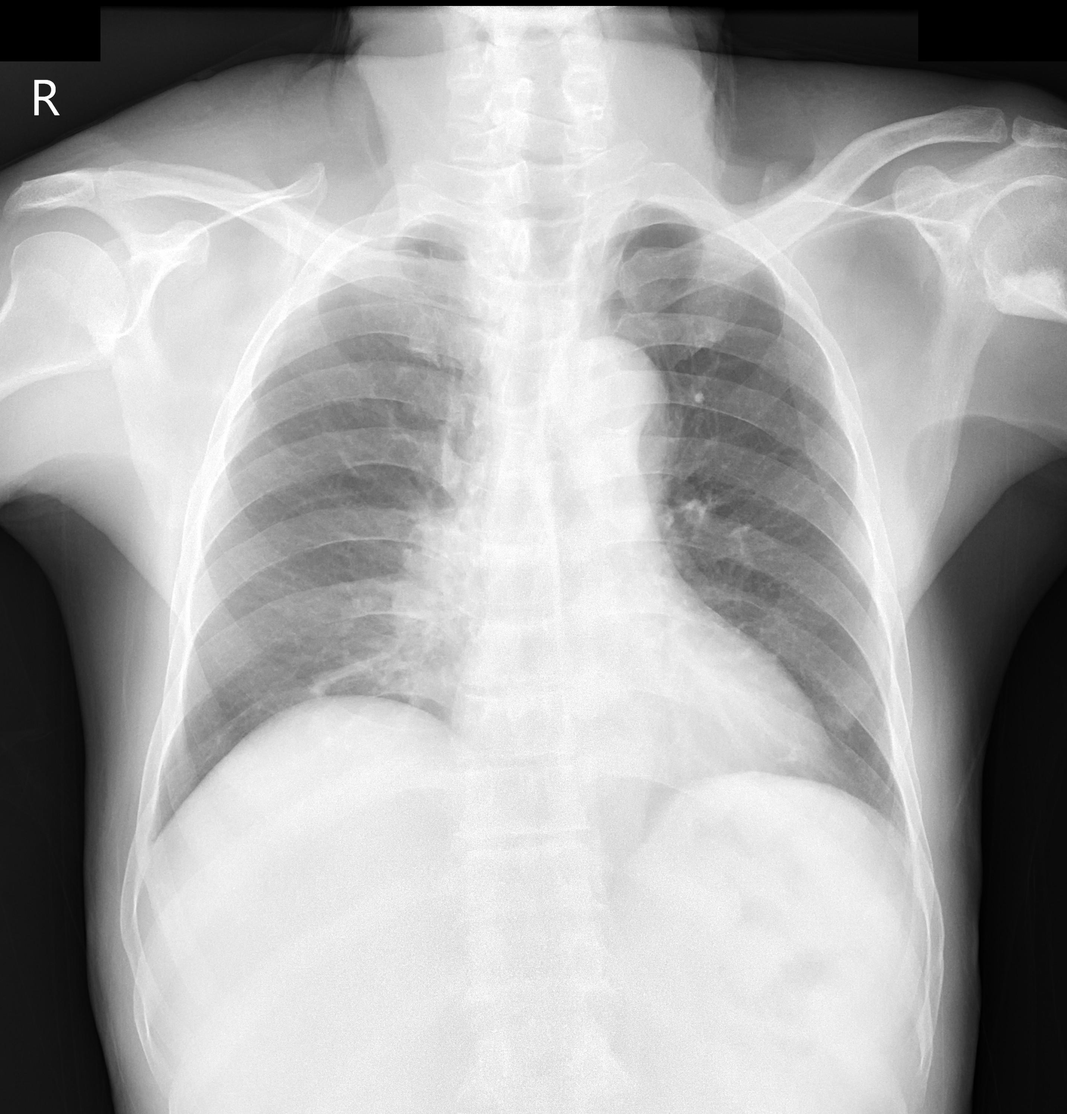Aortic enlargement: (558, 331, 672, 512)
Cardiomegaly: (414, 642, 839, 789)
